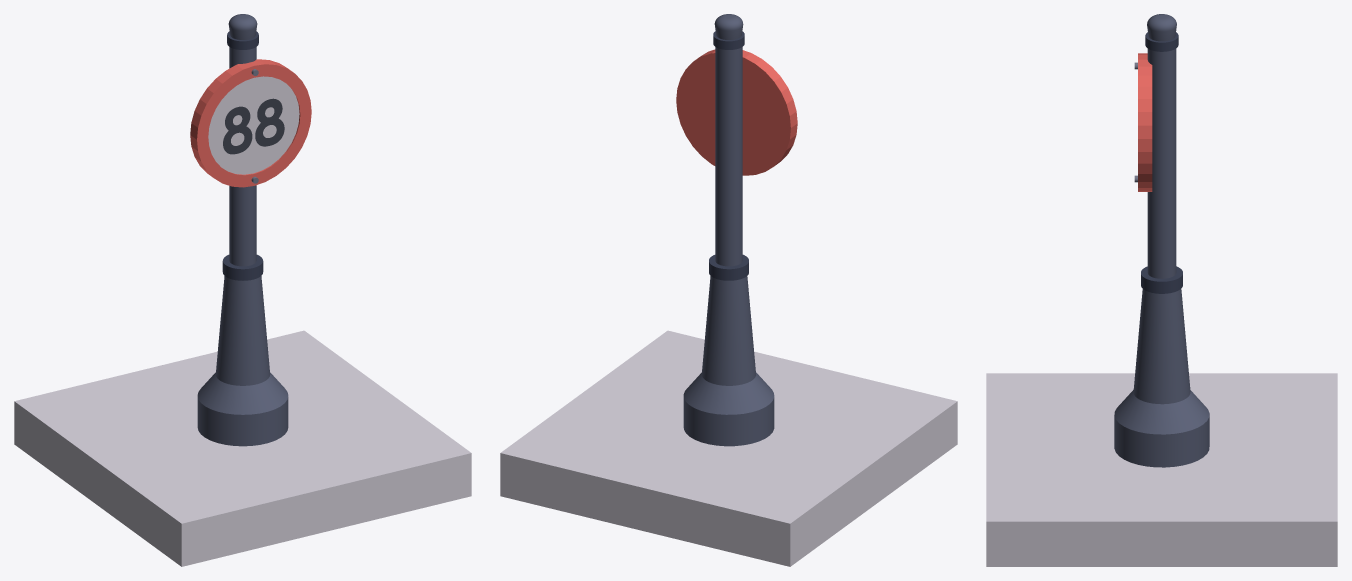
File: concrete_sign.fbx
3 renders of one model, left to right at view 1: azimuth 30°, elevation 25°; view 2: azimuth 150°, elevation 25°; view 3: azimuth 270°, elevation 25°, orthographic. The views are drawn at different scales.
Visible parts, largest first — view 1: Cube.039, sign base, sign board; view 2: Cube.039, sign base, sign board; view 3: Cube.039, sign base, sign board.
Part boxes in pixels (x1,y1,x2,y2): Cube.039: (14, 330, 471, 566); sign base: (197, 14, 288, 446); sign board: (190, 59, 311, 187); Cube.039: (500, 330, 957, 566); sign base: (683, 14, 774, 446); sign board: (676, 49, 797, 175); Cube.039: (986, 373, 1337, 566); sign base: (1114, 14, 1209, 467); sign board: (1134, 53, 1152, 191).
Size of the model in its own units: 171 by 255 by 171.
